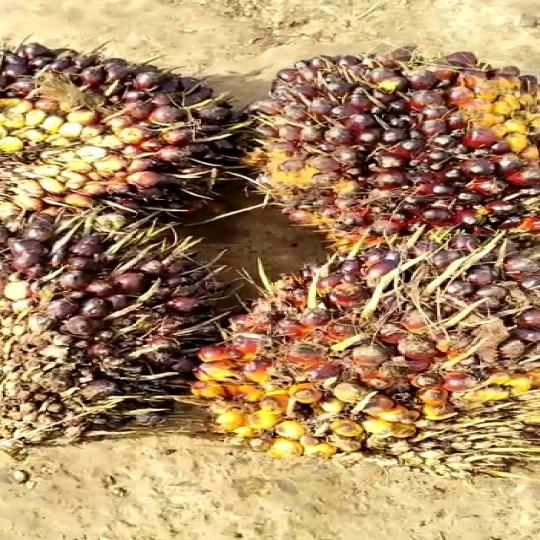kurang masak: (193, 245, 540, 478), (237, 45, 540, 251), (0, 188, 241, 440), (0, 38, 248, 219)
